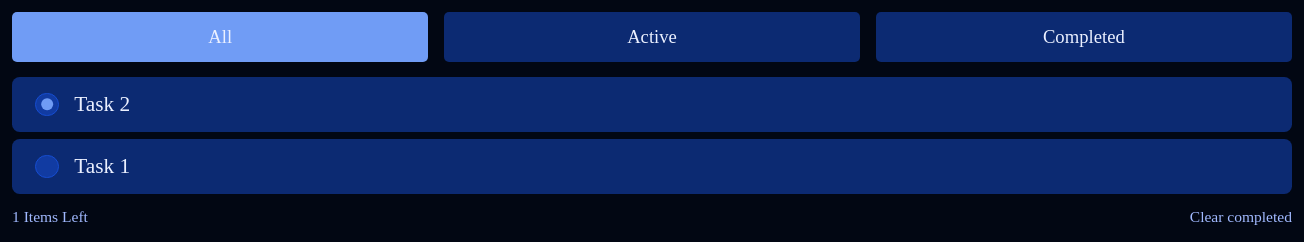
filters tasks correctly
Expected: the text "Task 1" is shown, [74,156,130,177]
Expected: the text "Task 2" is shown, [74,94,130,115]
Note: Кликаем "Active"
Click the button "Active": (652, 37) [444,12,860,62]
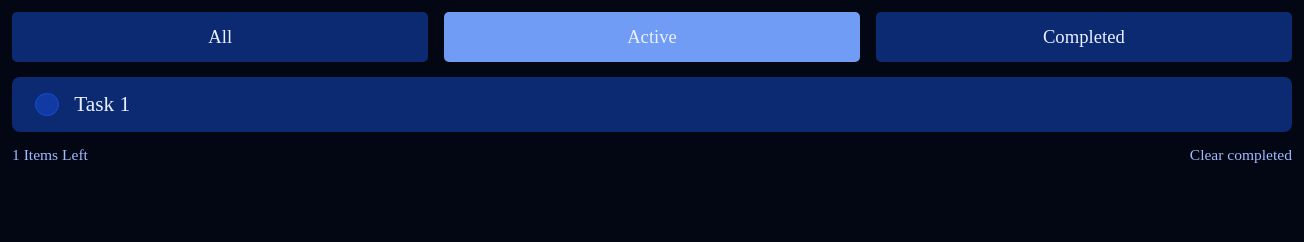
Expected: the text "Task 1" is shown, [74,94,130,115]
Result: the text "Task 2" is gone
Note: Кликаем "Completed"
Click the button "Completed": (1084, 37) [876,12,1292,62]
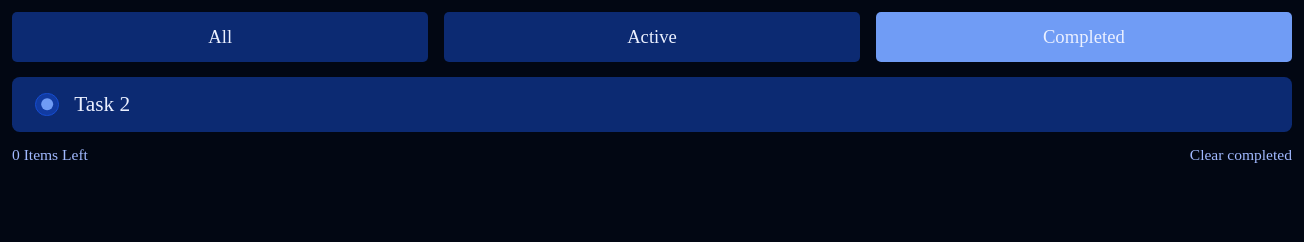
Result: the text "Task 1" is gone
Result: the text "Task 2" is shown at [74,94,130,115]
